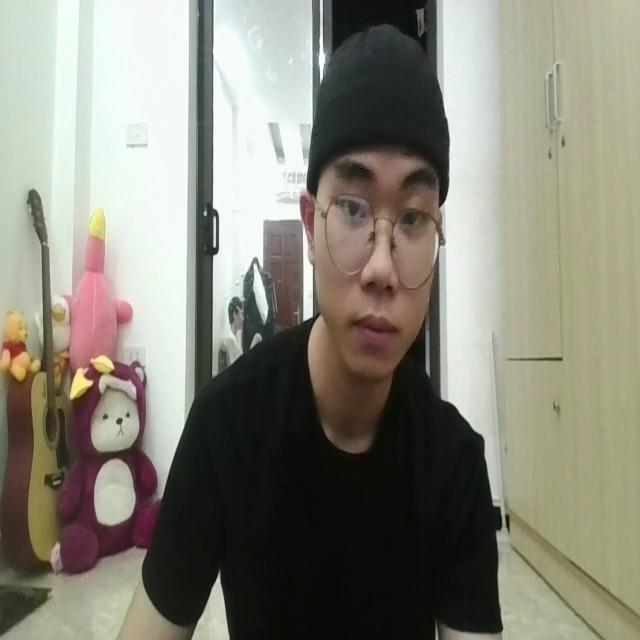student: (109, 24, 495, 640)
